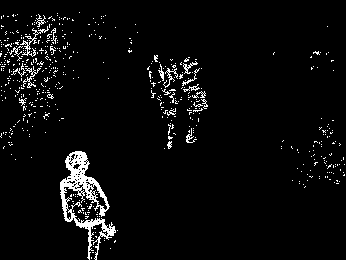person: (54, 146, 118, 260), (179, 72, 209, 148)
